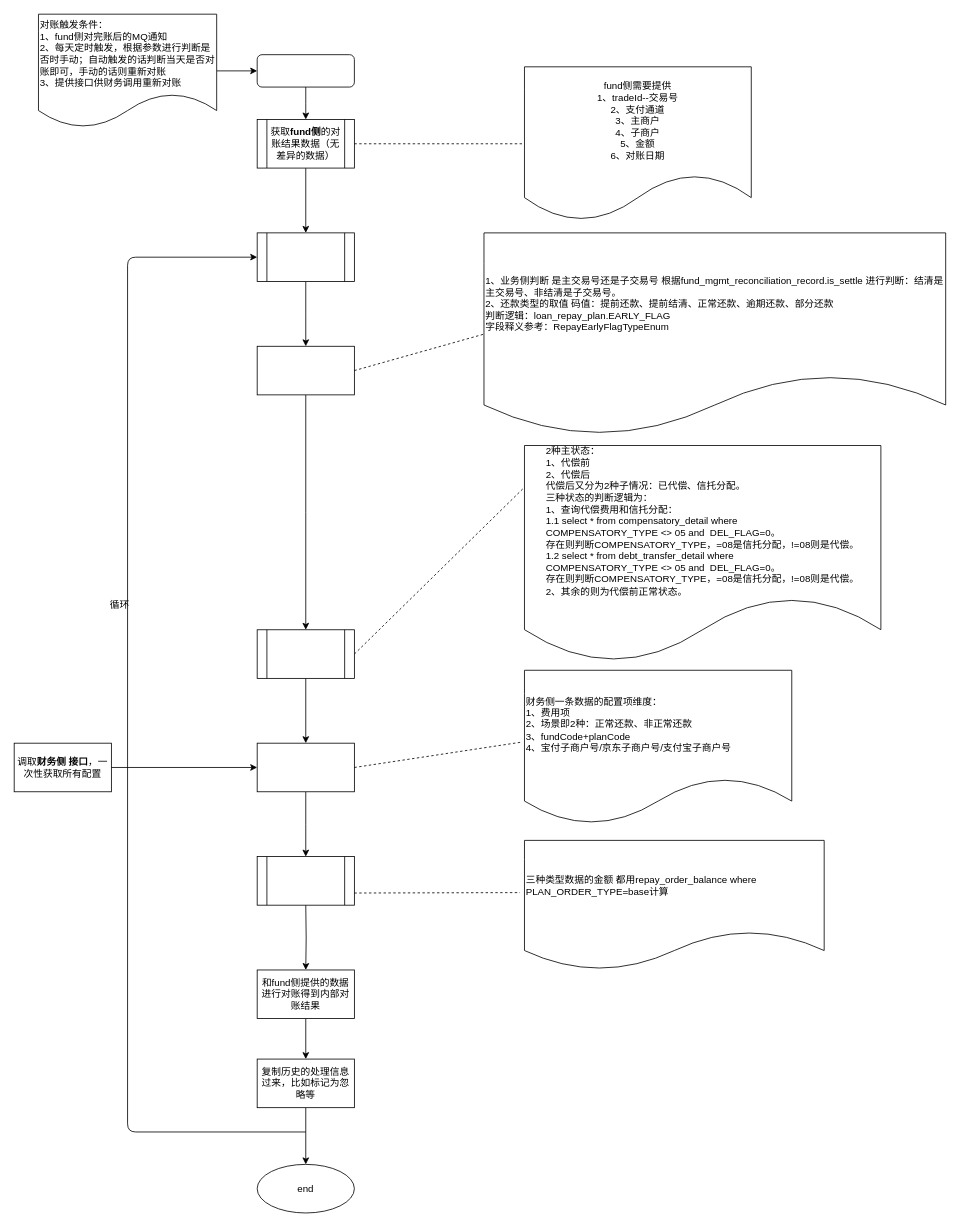
Image size: 960x1227. Some labels were removed from this diagram. The shapes that lost their labels are listed below. From the top down, each one's centre as x and y in pixels, then its label:
the point at 305,70: 开始
the point at 305,256: 循环处理单条数据
the point at 305,370: 根据tradeId50编号拿到还款计划等信息
the point at 305,653: 判断资产状态：代偿前、代偿后
the point at 305,767: 根据资管状态获得 财务侧 的支付通道商户号配置
the point at 305,880: 计算用户还款各费用项应进入的子商户号
